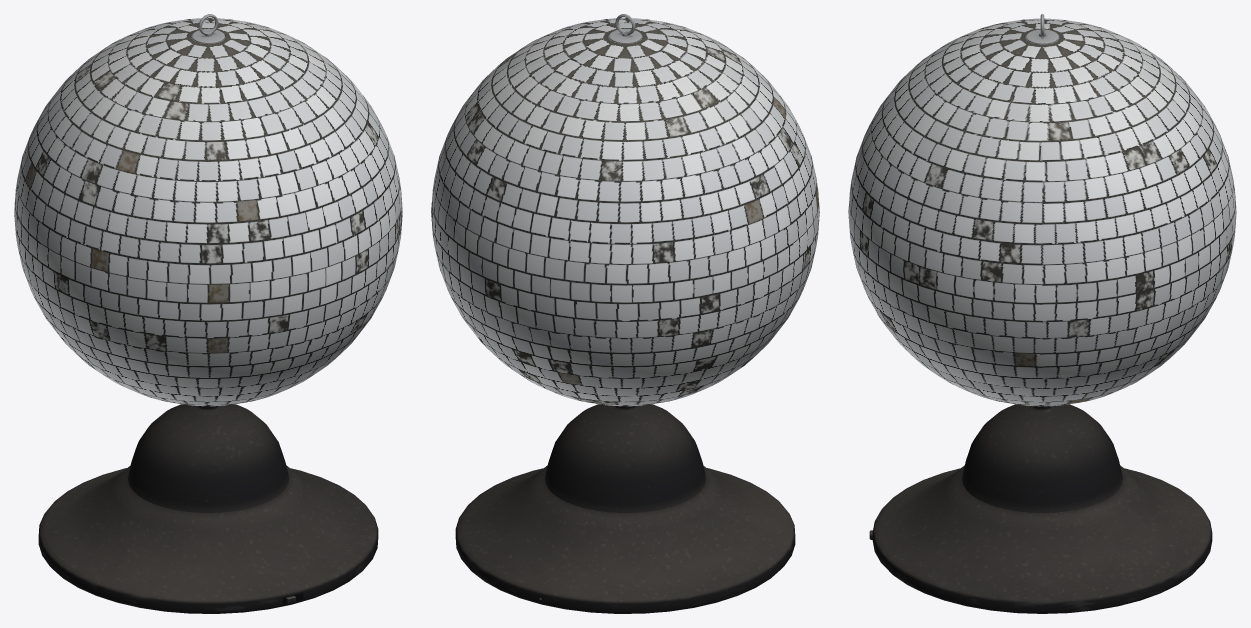
Rendered from DiscoBall.fbx.
The picture shows the model from 3 angles, left to right: view 1: azimuth 30°, elevation 25°; view 2: azimuth 150°, elevation 25°; view 3: azimuth 270°, elevation 25°; orthographic projection.
Visible parts, largest first — view 1: DiscoBall_Ball, DiscoBall_Base; view 2: DiscoBall_Ball, DiscoBall_Base; view 3: DiscoBall_Ball, DiscoBall_Base.
Boxes of the visible parts, x1=… form: DiscoBall_Ball: x1=14, y1=14, x2=402, y2=406; DiscoBall_Base: x1=38, y1=404, x2=378, y2=613; DiscoBall_Ball: x1=431, y1=14, x2=819, y2=406; DiscoBall_Base: x1=455, y1=404, x2=795, y2=613; DiscoBall_Ball: x1=848, y1=14, x2=1236, y2=406; DiscoBall_Base: x1=872, y1=404, x2=1212, y2=613.
Bounding box in the file's own units: 0.8 × 1.21 × 0.8.
Materials: 1 (1 with a texture image).
